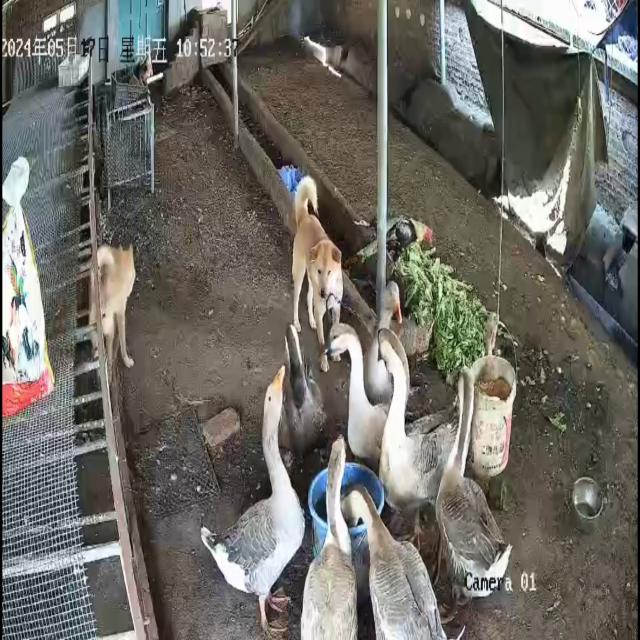dog: (291, 175, 345, 372), (97, 243, 137, 371)
